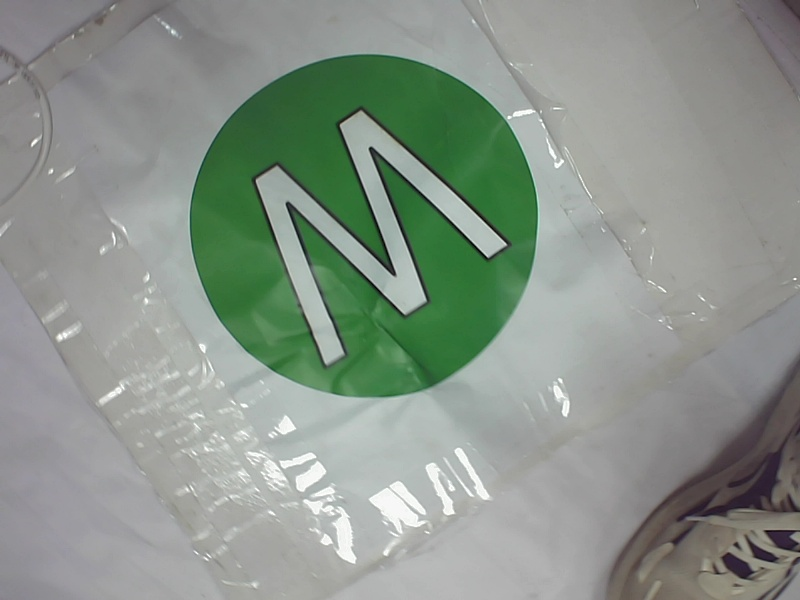areaB: (176, 49, 545, 407)
